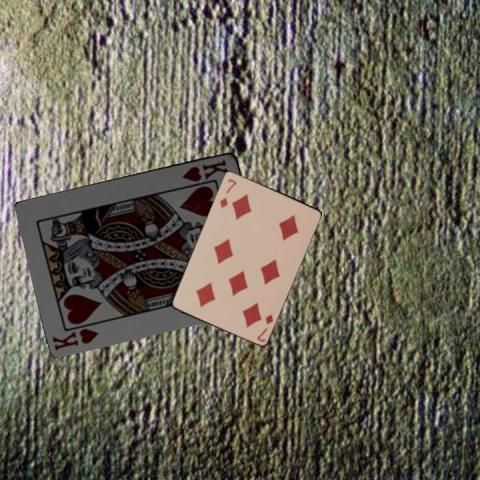7d: (254, 312, 275, 344), (217, 176, 237, 209)
Kh: (48, 325, 100, 352), (179, 157, 230, 183)
